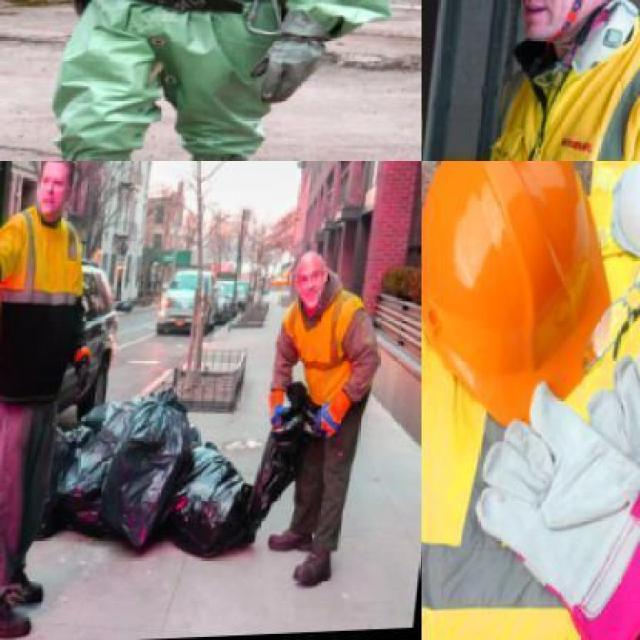Vest: (422, 160, 638, 638), (55, 0, 406, 158), (0, 218, 94, 416), (276, 306, 386, 431)
